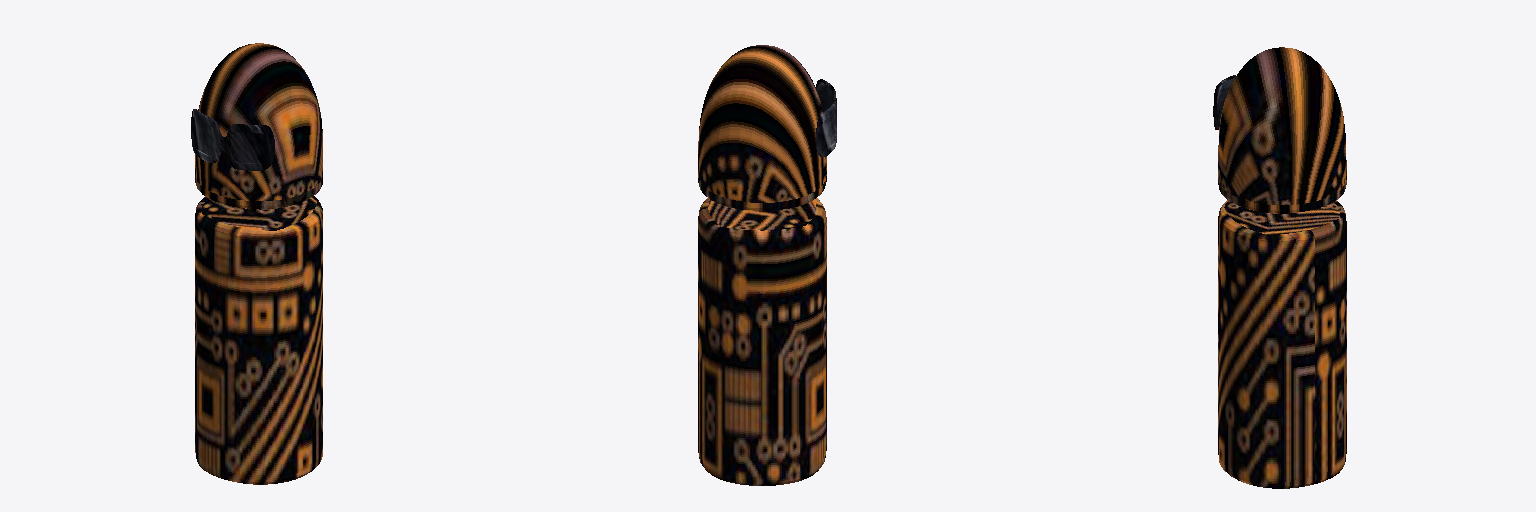
The picture shows the model from 3 angles: view 1: azimuth 30°, elevation 25°; view 2: azimuth 150°, elevation 25°; view 3: azimuth 270°, elevation 25°; orthographic projection.
Visible parts, largest first — view 1: Body_Cylinder, Head_Cylinder_001, Glasses_Cube_001; view 2: Body_Cylinder, Head_Cylinder_001, Glasses_Cube_001; view 3: Body_Cylinder, Head_Cylinder_001, Glasses_Cube_001.
Boxes of the visible parts, x1,y1,x2,y2 form: Body_Cylinder: [195, 196, 322, 484]; Head_Cylinder_001: [195, 43, 322, 209]; Glasses_Cube_001: [191, 109, 274, 170]; Body_Cylinder: [698, 198, 826, 485]; Head_Cylinder_001: [698, 45, 826, 210]; Glasses_Cube_001: [816, 79, 836, 157]; Body_Cylinder: [1218, 200, 1346, 488]; Head_Cylinder_001: [1218, 47, 1346, 213]; Glasses_Cube_001: [1213, 75, 1235, 129].
Bounding box in the file's own units: 6.91 × 22.7 × 6.64.
Materials: 2 (2 with a texture image).